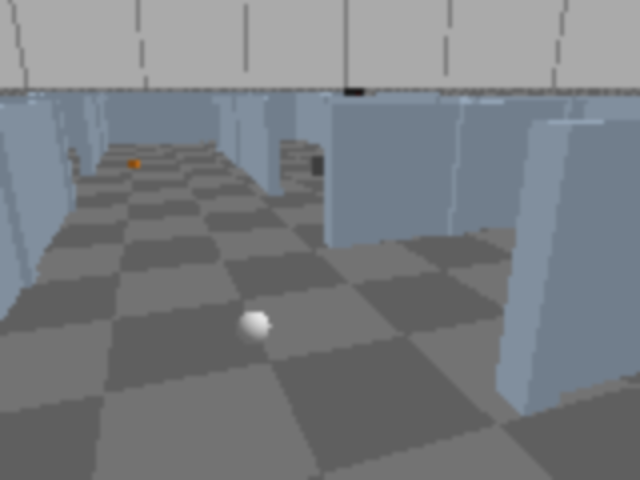puck: (227, 301, 278, 356)
